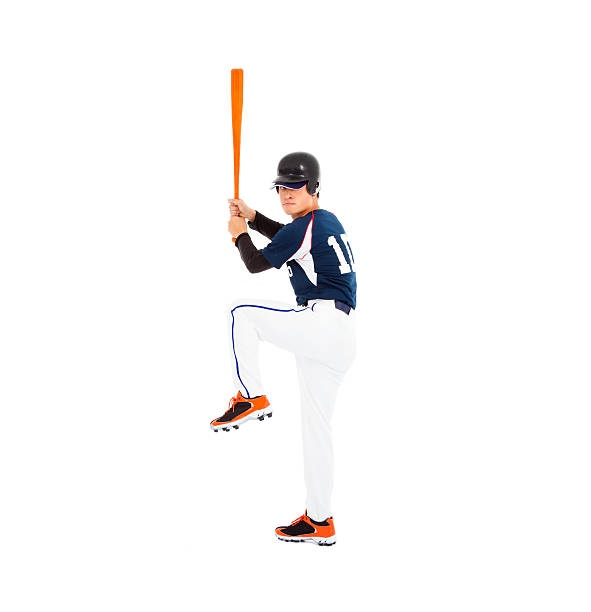bita: (228, 62, 253, 211)
